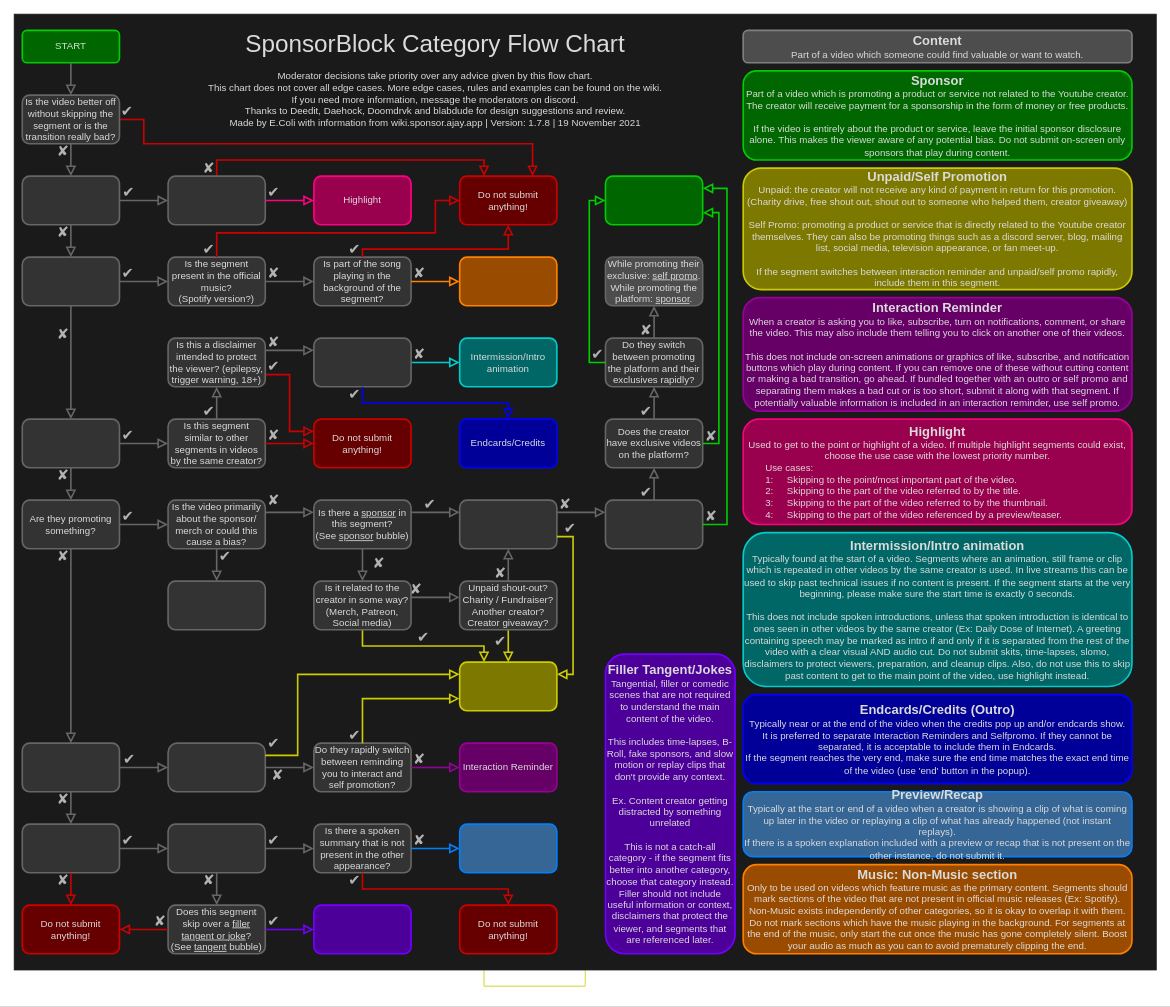
This 1170x1007 diagram has some shape labels left out. The shapes that lost their labels are listed below. From the top down, each one's centre as x and y in pixels, then its label:
At (x=70, y=200): "Does the segment skip ahead to the point of interest?".
At (x=216, y=200): "Does the segment meet any of the highlight use cases? (See highlight bubble )".
At (x=653, y=200): "Sponsor".
At (x=70, y=281): "Is music the primary aspect of the video?".
At (x=507, y=281): "Music: Non-Music section".
At (x=362, y=362): "Is the segment located at or near the end of the video?".
At (x=70, y=443): "Does this segment contain an animation or still frame? (May contain audio)".
At (x=507, y=524): "Is it obvious the sponsor is owned by the same company/person?".
At (x=653, y=524): "Is the sponsor Nebula or Curiosity Stream?".
At (x=216, y=605): "Do not submit the disclosure, consider submitting a Full Video Label".
At (x=507, y=686): "Unpaid/Self Promotion".
At (x=70, y=767): "Are they asking you to like, subscribe, turn on notifications, comment or share?".
At (x=216, y=767): "Does the segment contain potentially valuable information?".
At (x=70, y=848): "Is there any content in this segment? (See content bubble)".
At (x=216, y=848): "Does the content in this segment appear earlier or later in this video / series?".
At (x=507, y=848): "Preview/Recap".
At (x=362, y=929): "Filler Tangent/ Jokes".
